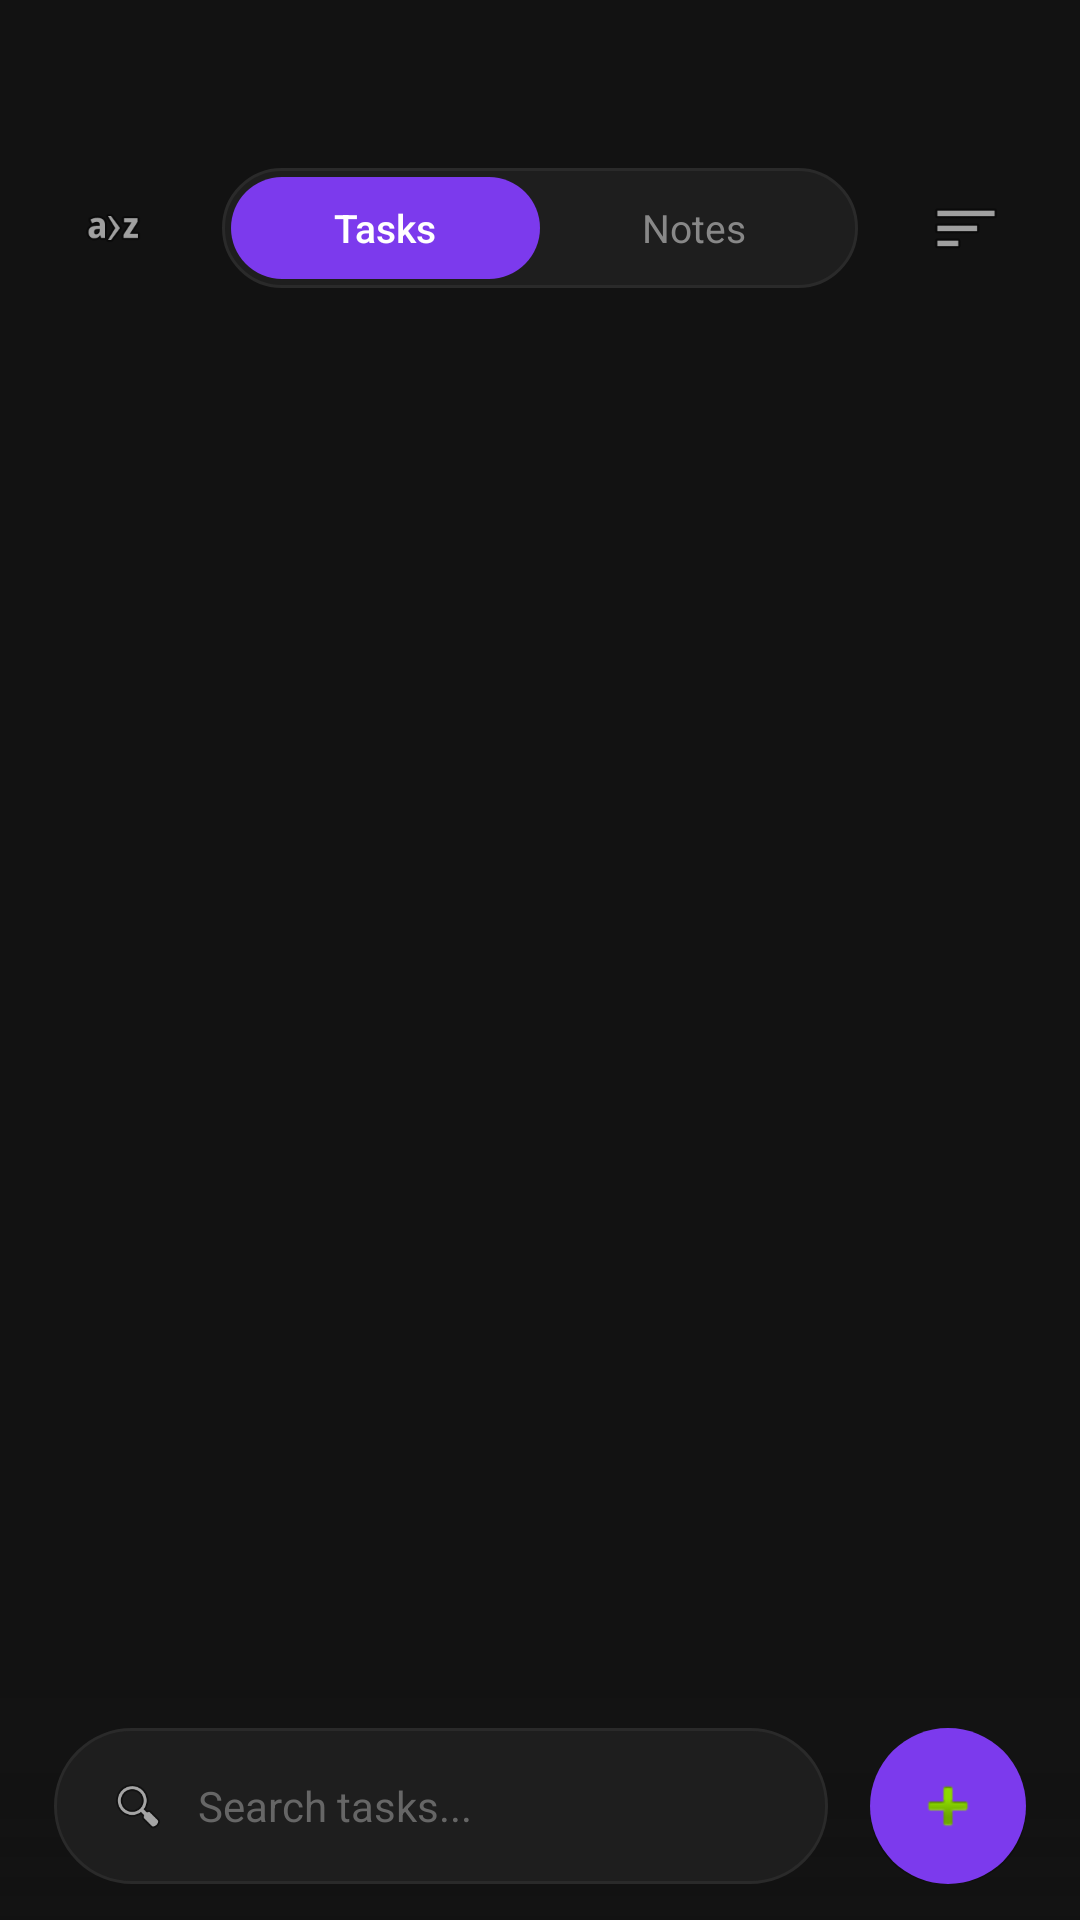

Icons on this 1080px x 1920px Android screen, each with the point to tap as (x=x, y=y):
Create: (x=948, y=1806)
